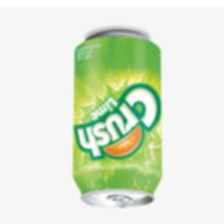can: (63, 28, 169, 211)
